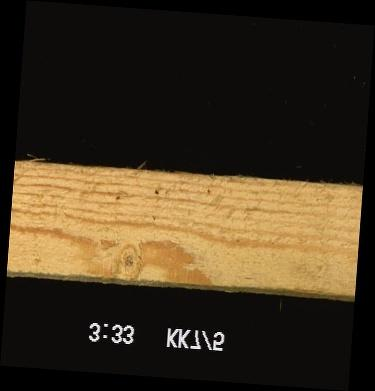sound_knot: (111, 242, 144, 279)
